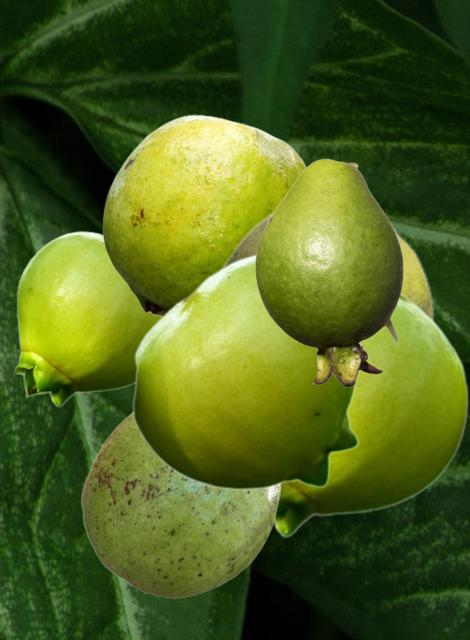guava: (131, 251, 359, 489), (274, 291, 468, 537), (102, 114, 307, 318), (80, 413, 280, 597), (255, 158, 402, 386), (14, 231, 158, 406), (220, 209, 434, 319)
